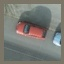car: (15, 18, 49, 44)
